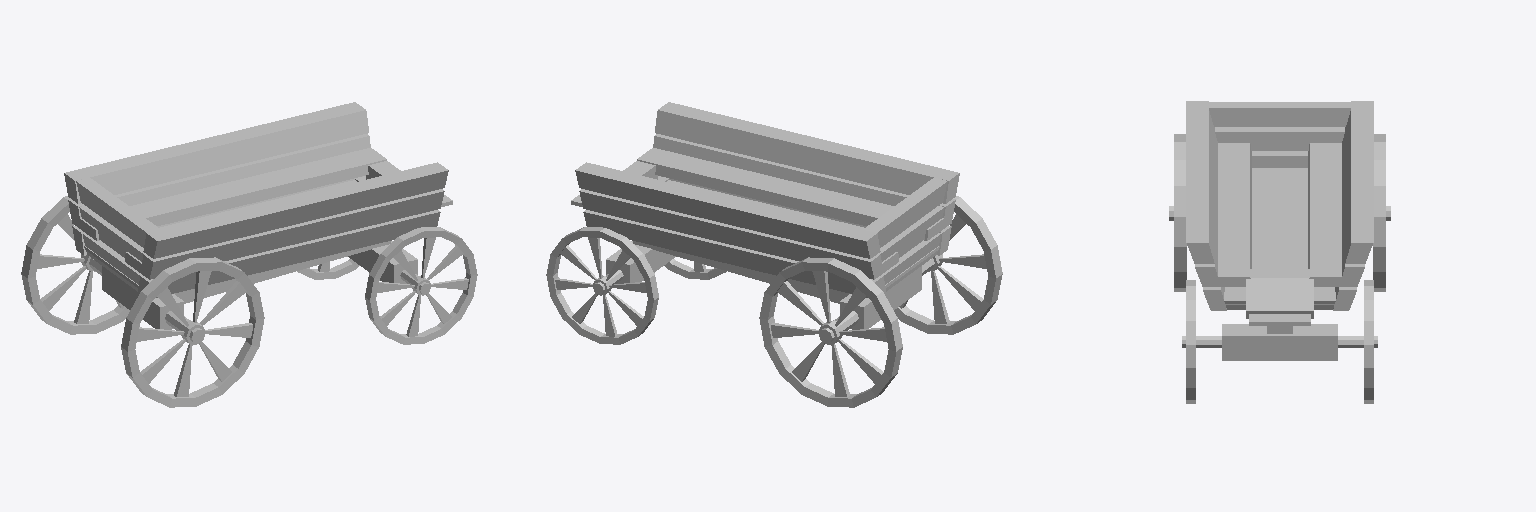
Rendered from wagon.obj.
3 views of the same model, side by side, from view 1: azimuth 30°, elevation 25°; view 2: azimuth 150°, elevation 25°; view 3: azimuth 270°, elevation 25° (orthographic).
Visible parts, largest first — view 1: Cube.003_Cube.005; view 2: Cube.003_Cube.005; view 3: Cube.003_Cube.005.
Boxes of the visible parts, x1=… form: Cube.003_Cube.005: x1=21, y1=102, x2=477, y2=407; Cube.003_Cube.005: x1=546, y1=102, x2=1002, y2=407; Cube.003_Cube.005: x1=1169, y1=101, x2=1390, y2=403.
Bounding box in the file's own units: 10 × 4.43 × 5.3.